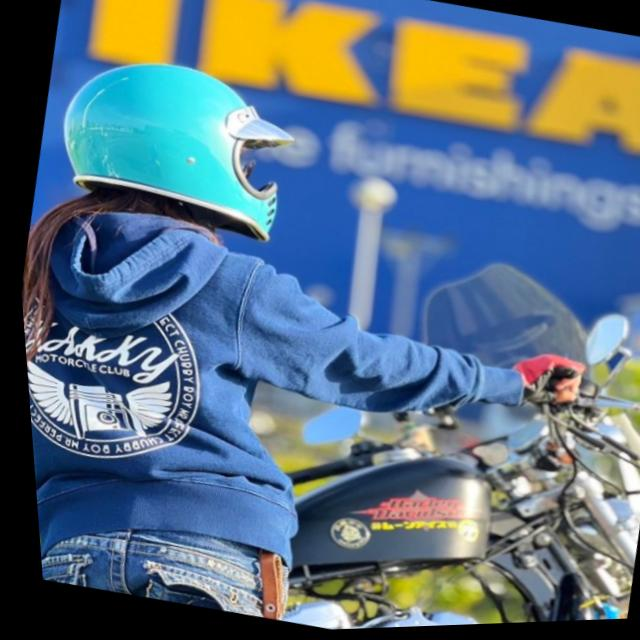helmet: (31, 34, 315, 259)
